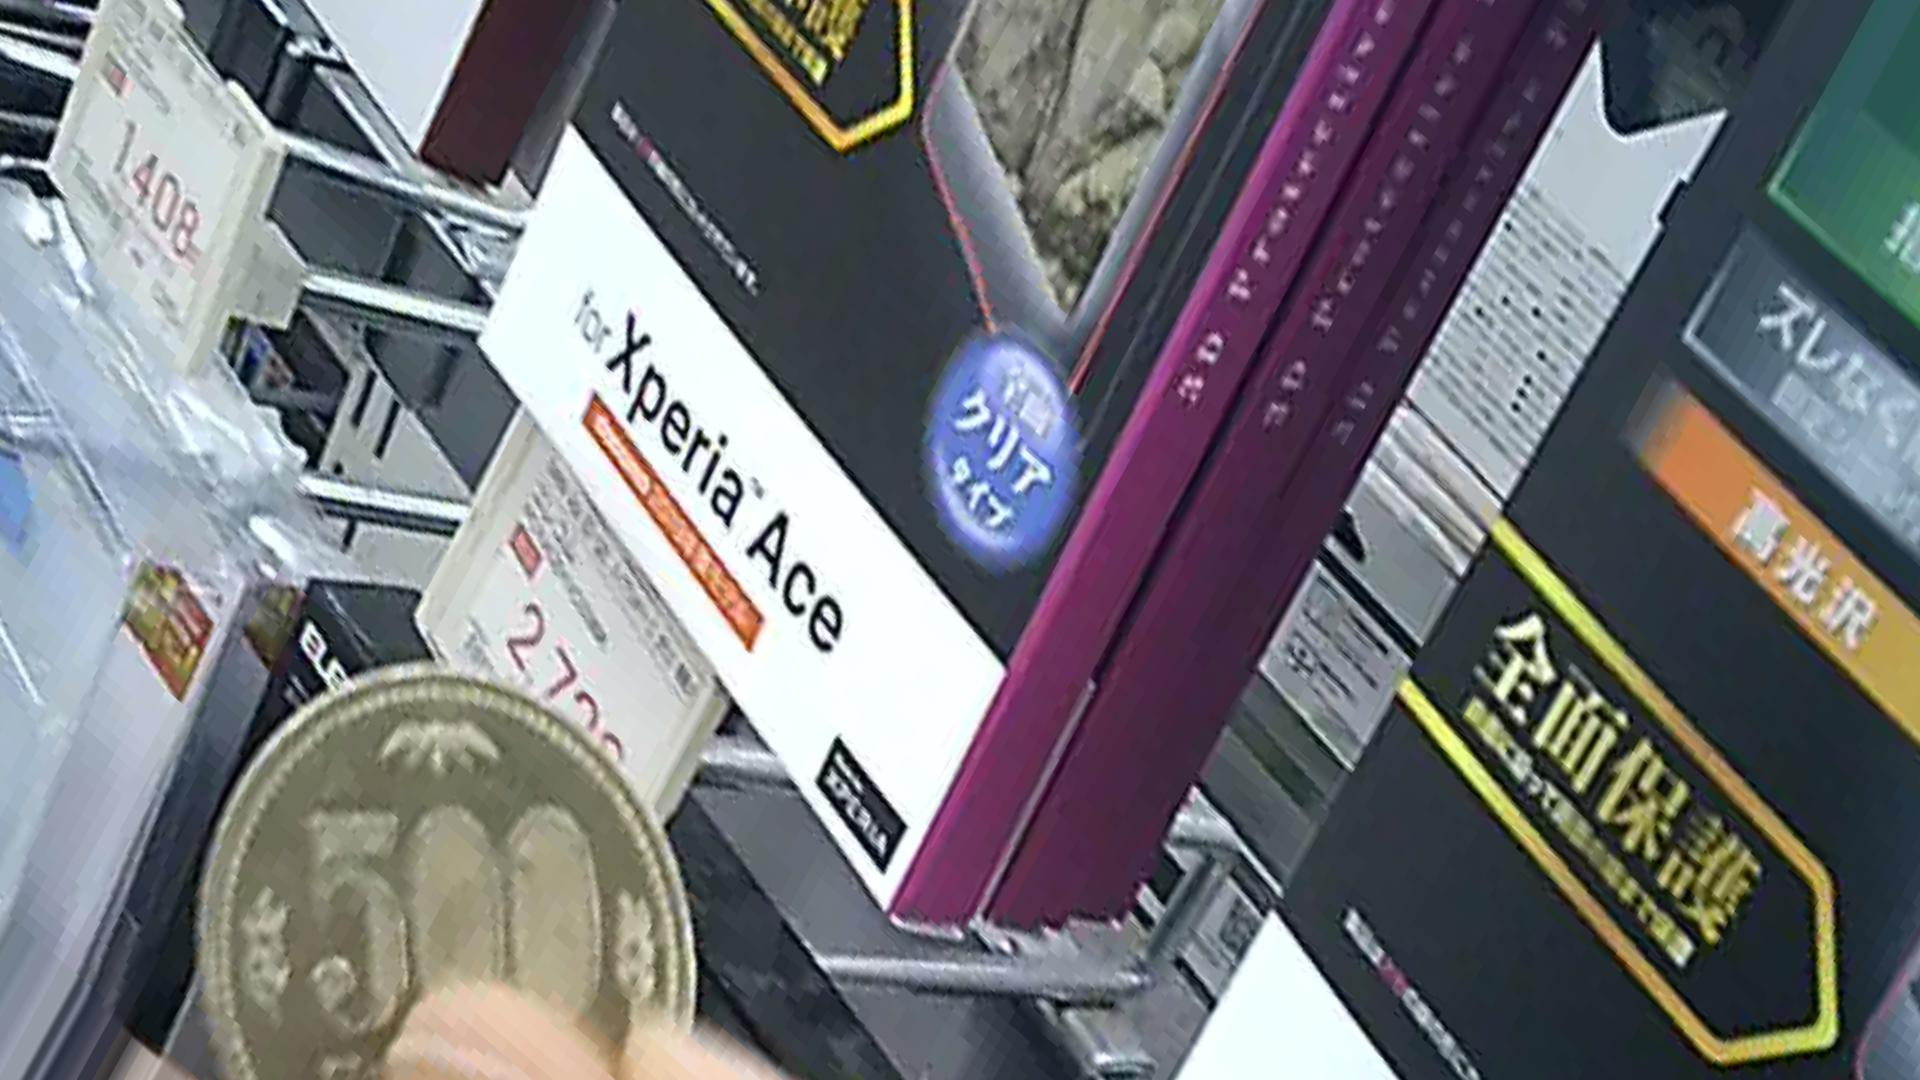500 Yen: (171, 673, 673, 1079)
